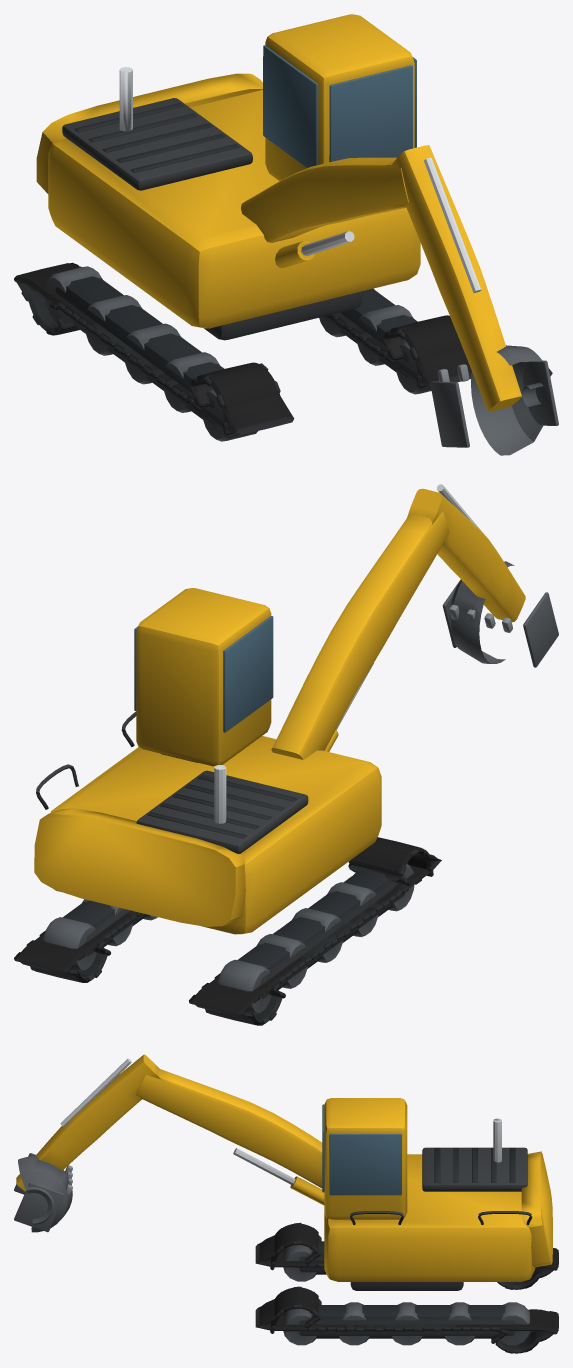
File: veh-excavator.glb
The picture shows the model from 3 angles, top to bottom: view 1: azimuth 30°, elevation 25°; view 2: azimuth 150°, elevation 25°; view 3: azimuth 270°, elevation 25°; orthographic projection. The views are drawn at different scales.
Visible parts, largest first — view 1: turn, body, arm, boom, bucket; view 2: turn, body, boom, arm, bucket; view 3: turn, body, boom, arm, bucket.
Boxes of the visible parts, x1,y1,x2,y2 form: turn: [36, 14, 420, 328]; body: [14, 262, 471, 441]; arm: [390, 145, 522, 411]; boom: [241, 157, 408, 267]; bucket: [430, 345, 558, 455]; turn: [34, 588, 381, 934]; body: [14, 837, 441, 1025]; boom: [271, 511, 449, 759]; arm: [407, 484, 525, 622]; bucket: [442, 561, 558, 667]; turn: [322, 1098, 552, 1281]; body: [255, 1222, 558, 1353]; boom: [135, 1068, 324, 1205]; arm: [16, 1054, 160, 1191]; bucket: [14, 1153, 72, 1232].
Size of the model in its own units: 2.62 by 3.61 by 7.23.
